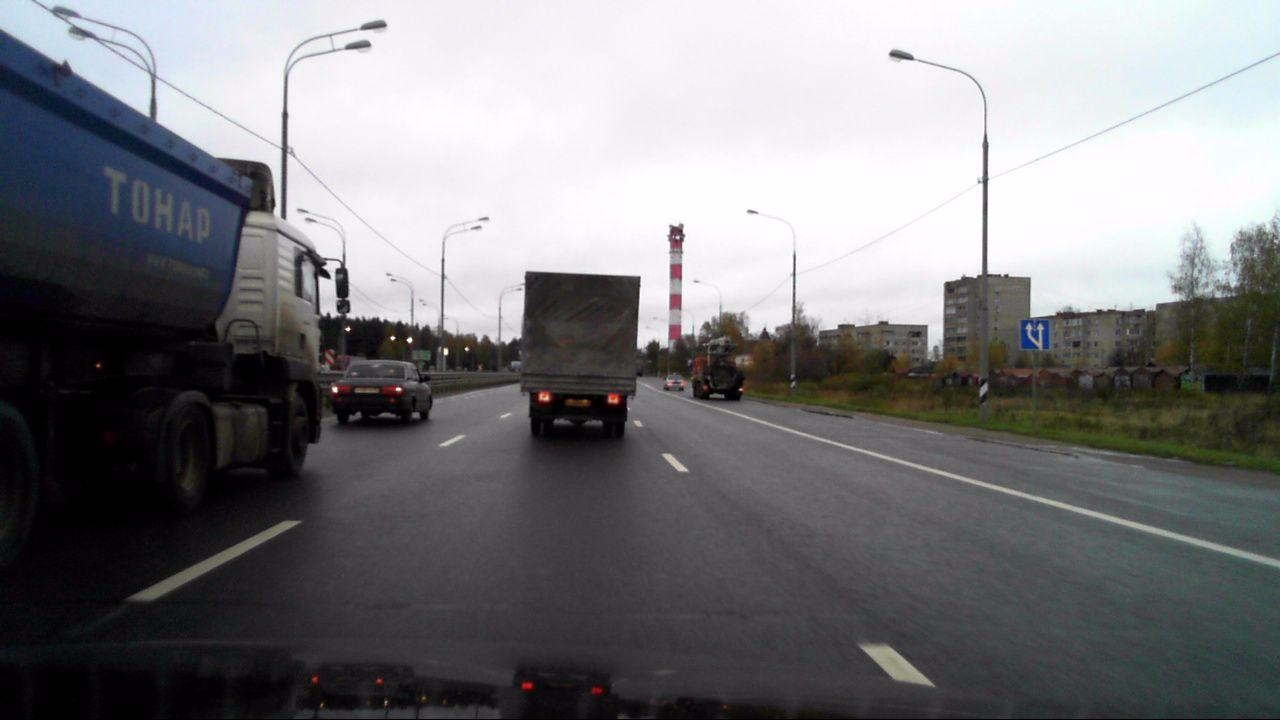5_15_4: (1019, 320, 1049, 349)
